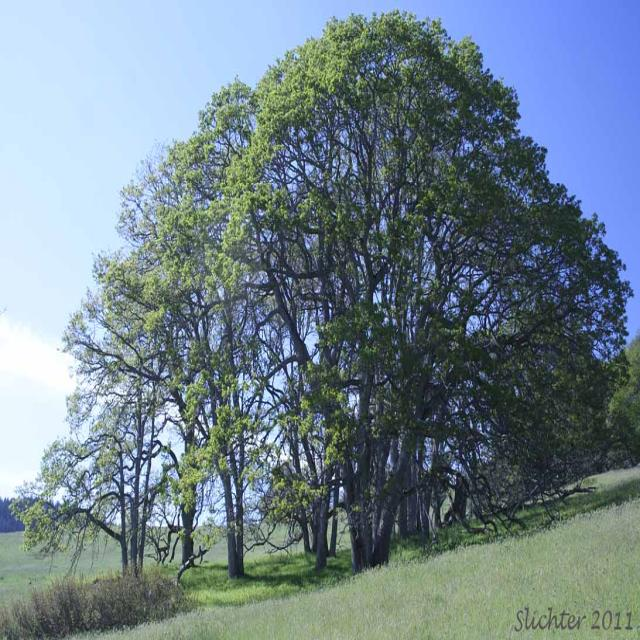Quercus garryana: (12, 16, 628, 562)
